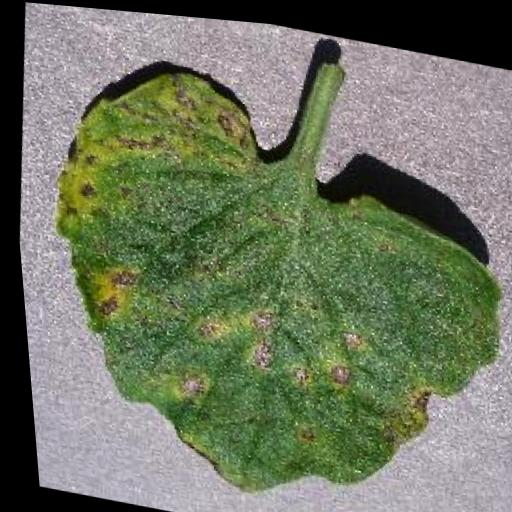Septoria: (18, 42, 512, 512)
